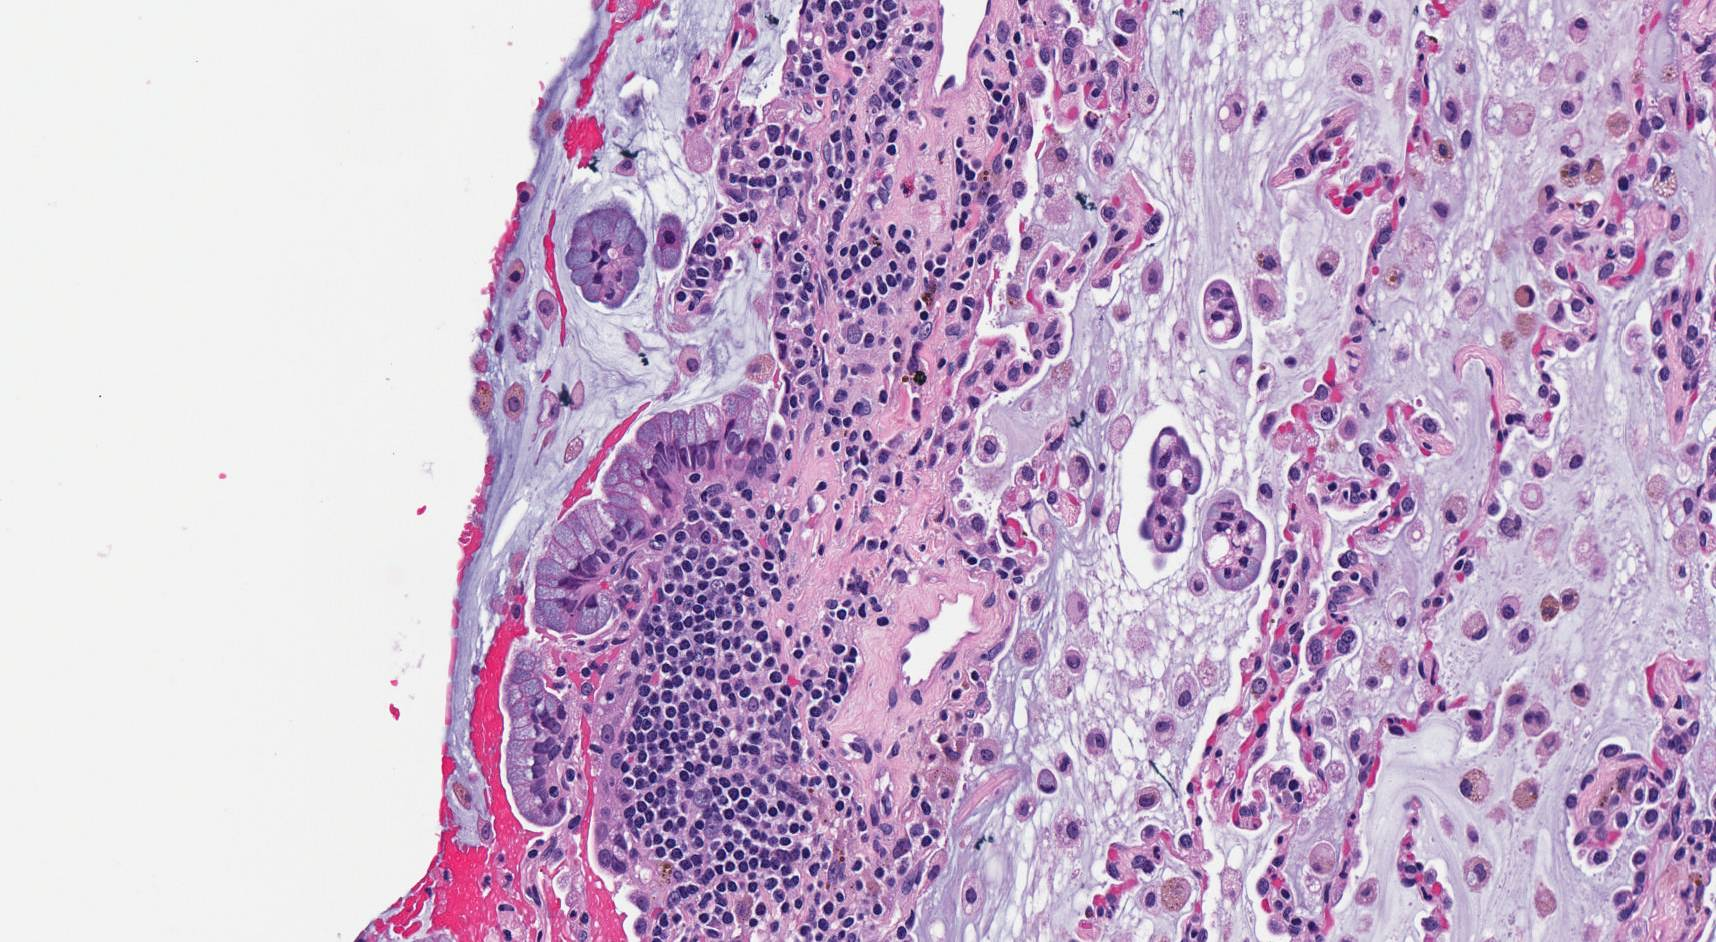stas: (564, 206, 644, 311), (1140, 427, 1203, 554), (1200, 489, 1265, 591), (1201, 277, 1246, 341), (651, 211, 685, 268)
